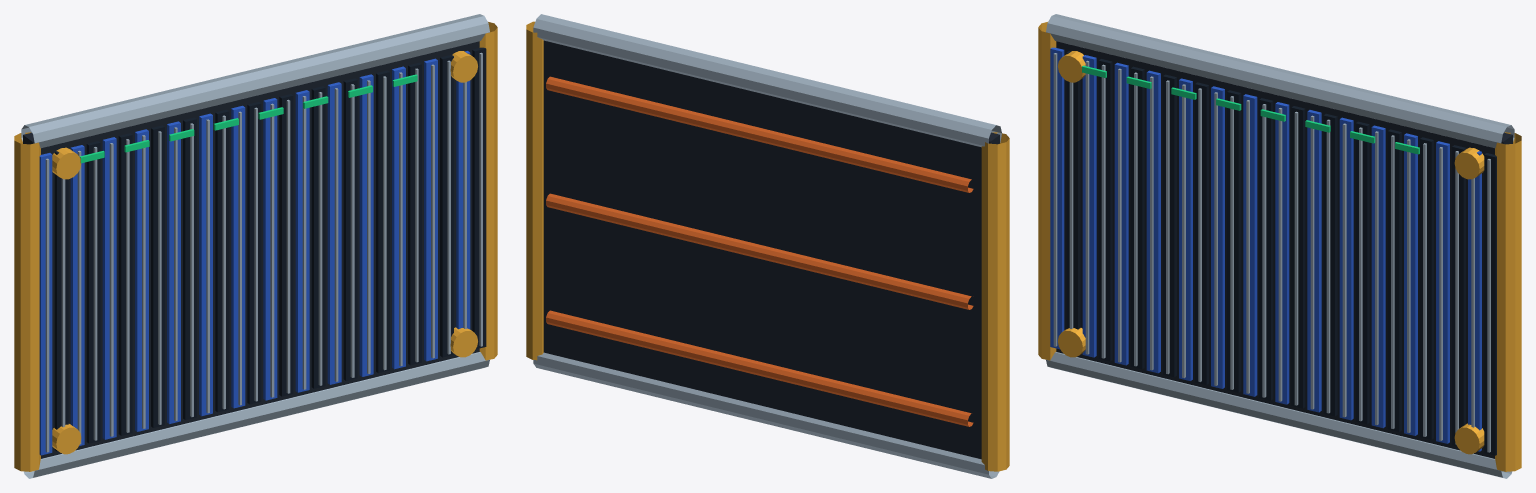
File: 47_L86_ReplacementThermalRadiatorModule.fbx
3 views of the same model, side by side, from view 1: azimuth 30°, elevation 25°; view 2: azimuth 150°, elevation 25°; view 3: azimuth 330°, elevation 25° (orthographic).
Visible parts, largest first — view 1: L86_ReplacementThermalRadiatorModule_Part_0005, L86_ReplacementThermalRadiatorModule_Part_0004, L86_ReplacementThermalRadiatorModule_Part_0002, L86_ReplacementThermalRadiatorModule_Part_0000, L86_ReplacementThermalRadiatorModule_Part_0003, L86_ReplacementThermalRadiatorModule_Part_0001, L86_ReplacementThermalRadiatorModule_Part_0007; view 2: L86_ReplacementThermalRadiatorModule_Part_0000, L86_ReplacementThermalRadiatorModule_Part_0002, L86_ReplacementThermalRadiatorModule_Part_0006, L86_ReplacementThermalRadiatorModule_Part_0001; view 3: L86_ReplacementThermalRadiatorModule_Part_0004, L86_ReplacementThermalRadiatorModule_Part_0005, L86_ReplacementThermalRadiatorModule_Part_0002, L86_ReplacementThermalRadiatorModule_Part_0000, L86_ReplacementThermalRadiatorModule_Part_0003, L86_ReplacementThermalRadiatorModule_Part_0001, L86_ReplacementThermalRadiatorModule_Part_0007.
Part boxes in pixels (<box>): L86_ReplacementThermalRadiatorModule_Part_0005: <box>54,47,486,451</box>; L86_ReplacementThermalRadiatorModule_Part_0004: <box>39,51,470,455</box>; L86_ReplacementThermalRadiatorModule_Part_0002: <box>21,14,489,478</box>; L86_ReplacementThermalRadiatorModule_Part_0000: <box>23,41,479,458</box>; L86_ReplacementThermalRadiatorModule_Part_0003: <box>270,52,482,397</box>; L86_ReplacementThermalRadiatorModule_Part_0001: <box>14,22,497,471</box>; L86_ReplacementThermalRadiatorModule_Part_0007: <box>79,74,417,163</box>; L86_ReplacementThermalRadiatorModule_Part_0000: <box>543,40,999,459</box>; L86_ReplacementThermalRadiatorModule_Part_0002: <box>533,14,1001,478</box>; L86_ReplacementThermalRadiatorModule_Part_0006: <box>546,76,973,426</box>; L86_ReplacementThermalRadiatorModule_Part_0001: <box>526,21,1009,471</box>; L86_ReplacementThermalRadiatorModule_Part_0004: <box>1050,47,1481,451</box>; L86_ReplacementThermalRadiatorModule_Part_0005: <box>1066,51,1496,455</box>; L86_ReplacementThermalRadiatorModule_Part_0002: <box>1046,14,1514,478</box>; L86_ReplacementThermalRadiatorModule_Part_0000: <box>1056,41,1512,458</box>; L86_ReplacementThermalRadiatorModule_Part_0003: <box>1278,108,1490,452</box>; L86_ReplacementThermalRadiatorModule_Part_0001: <box>1038,22,1521,471</box>; L86_ReplacementThermalRadiatorModule_Part_0007: <box>1082,65,1419,154</box>.
Size of the model in its own units: 344 by 241 by 28.03.
